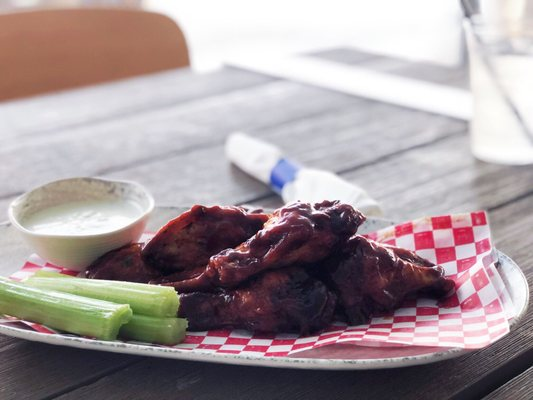sushi: (7, 176, 155, 271)
